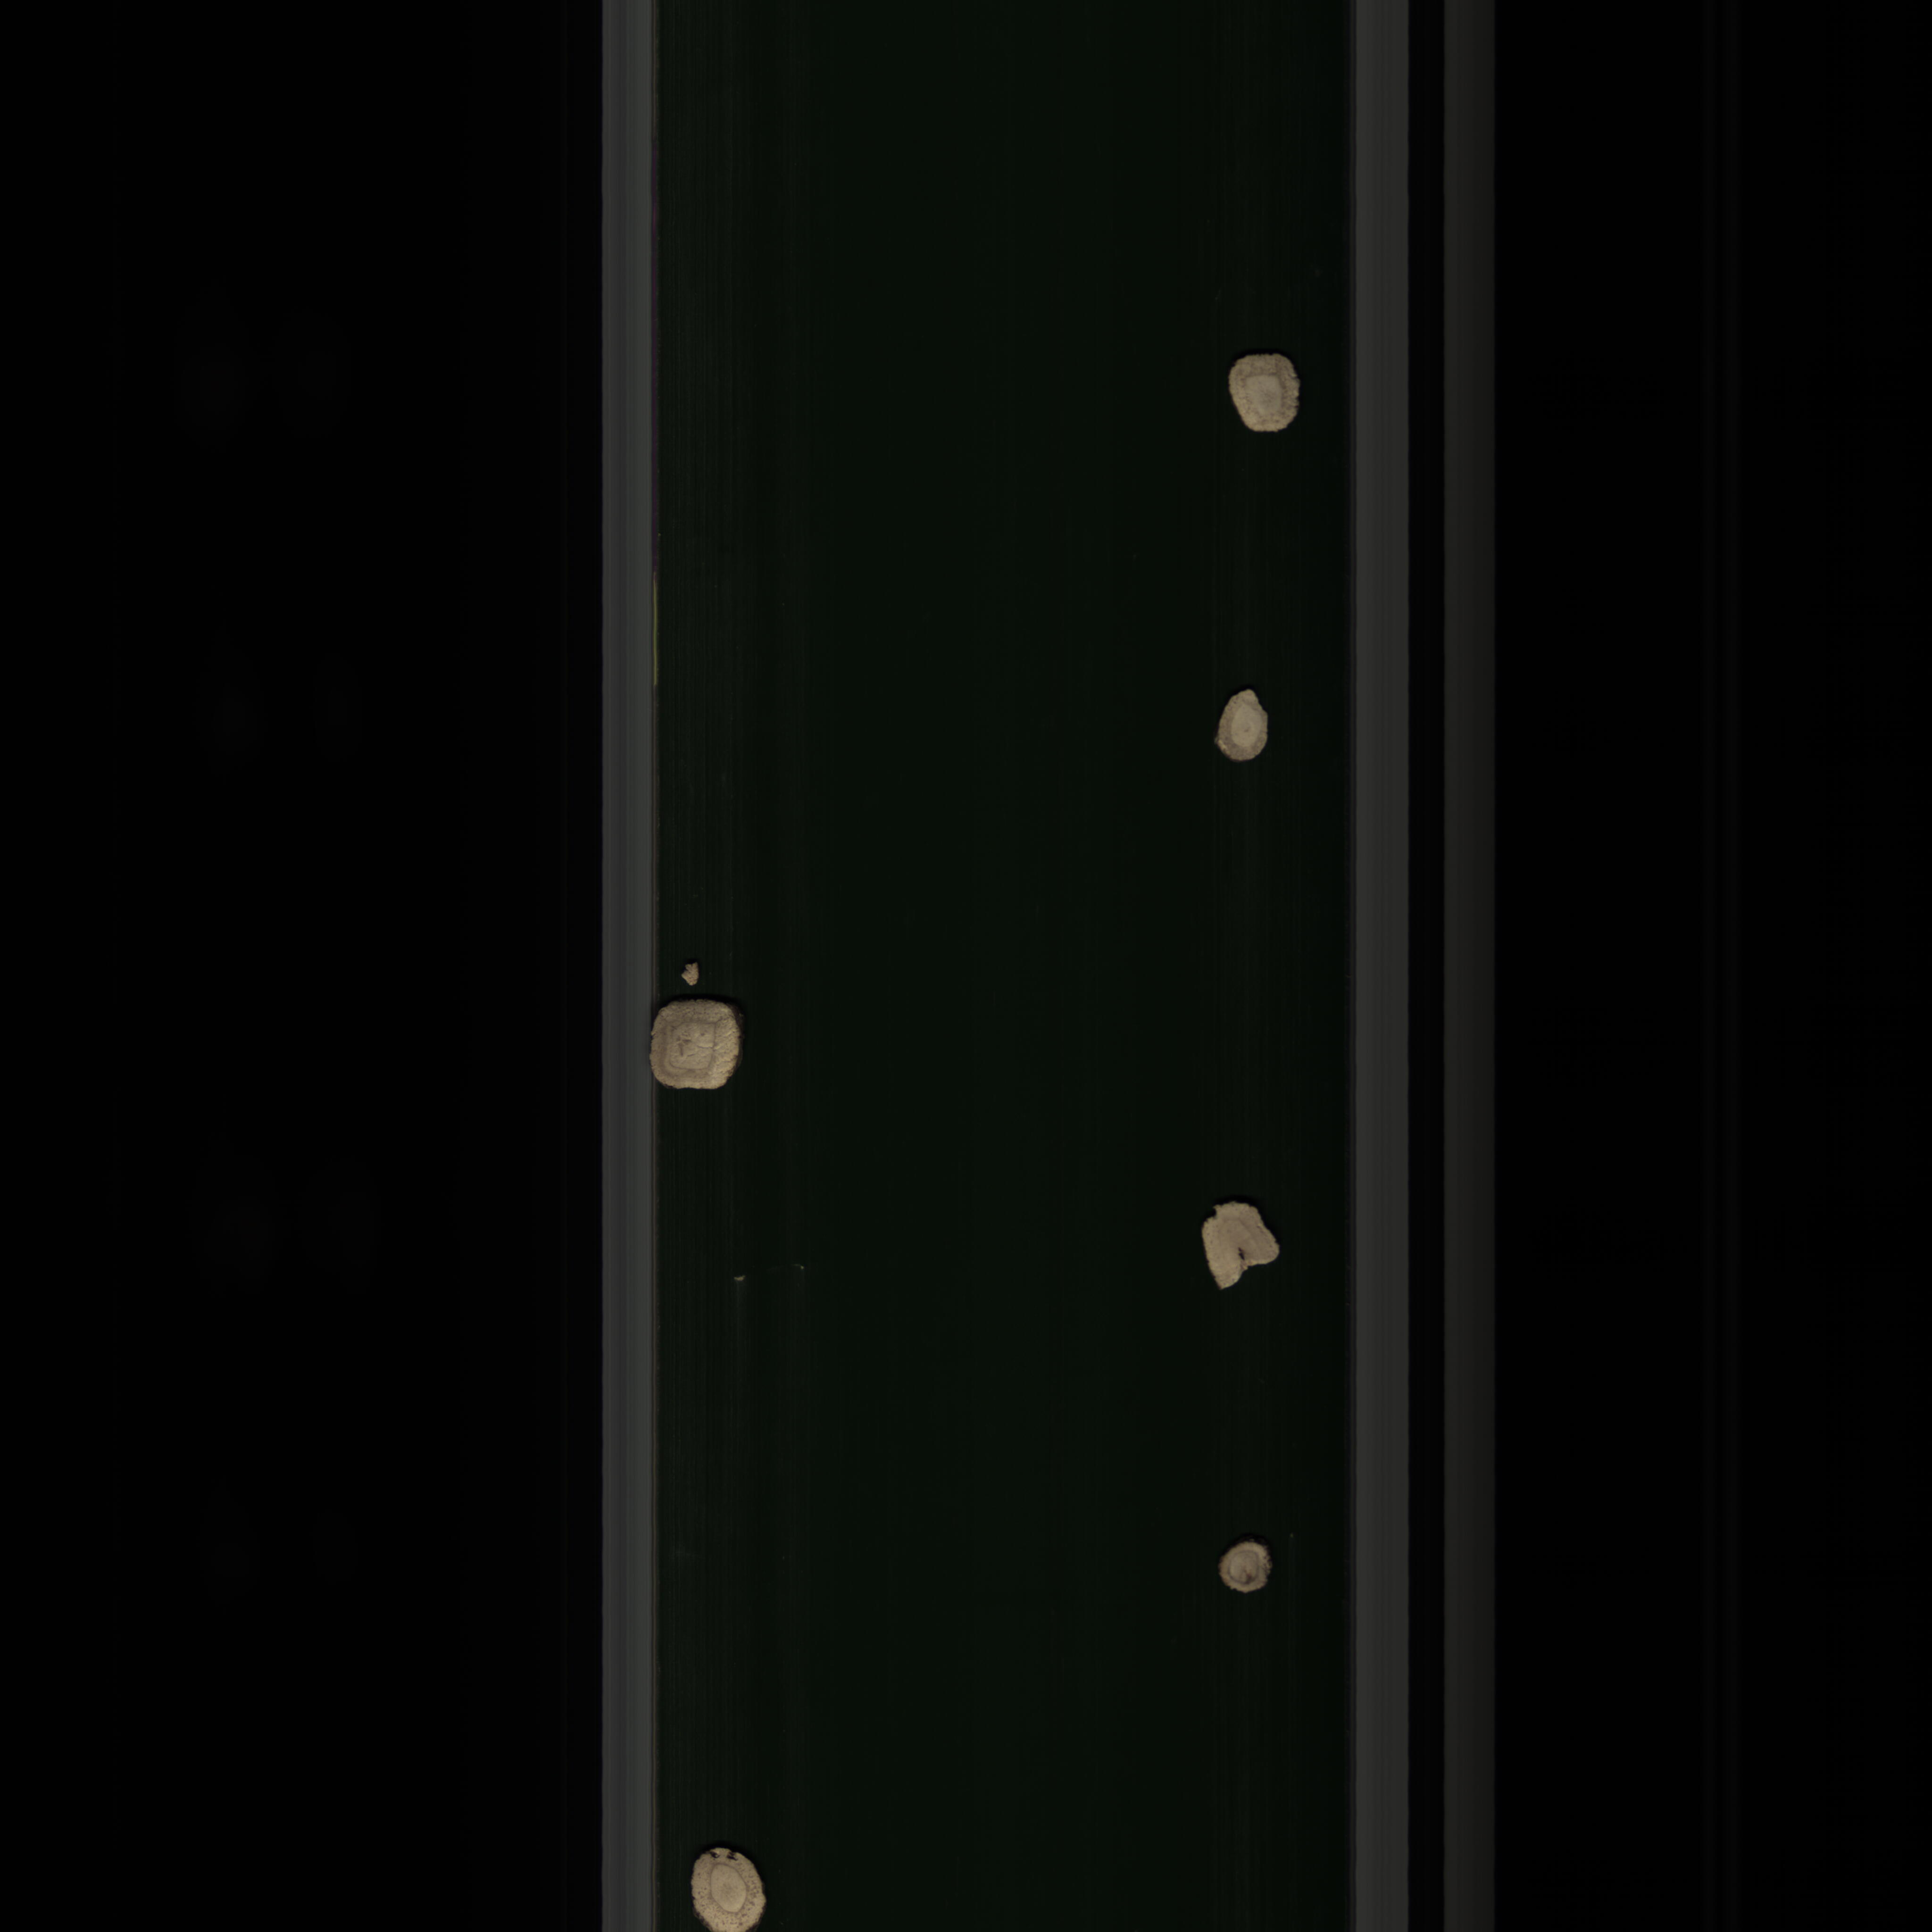debris: (1194, 1200, 1288, 1292)
